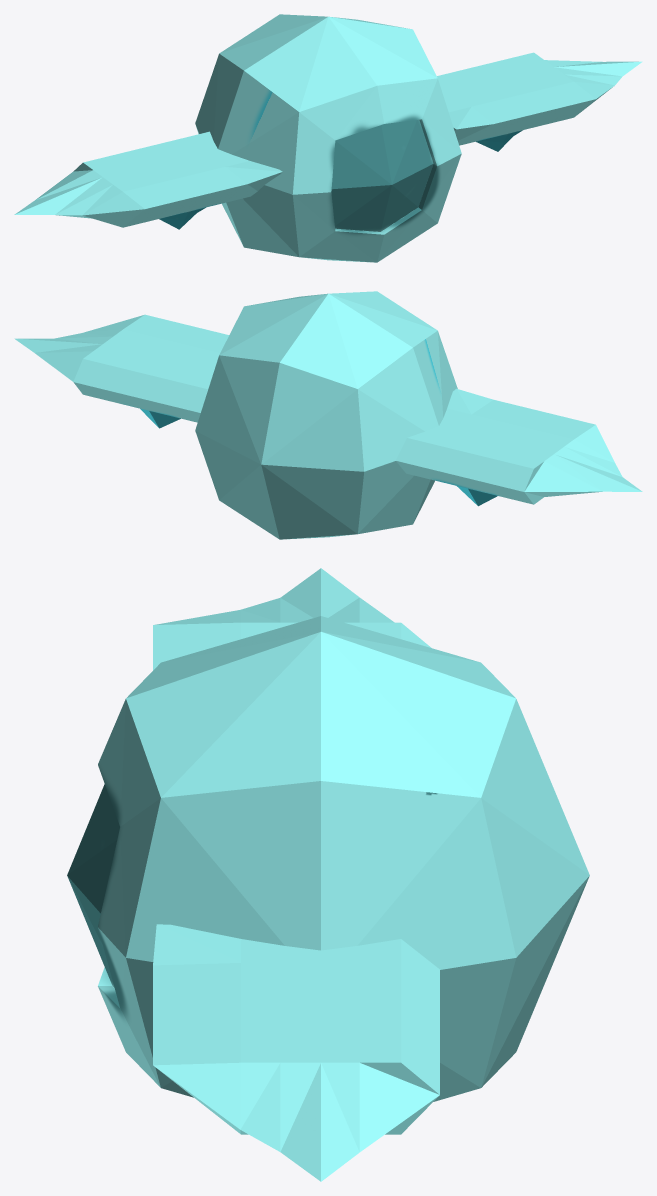
The model's file is player.obj.
3 renders of one model, top to bottom at view 1: azimuth 30°, elevation 25°; view 2: azimuth 150°, elevation 25°; view 3: azimuth 270°, elevation 25°, orthographic. The views are drawn at different scales.
Parts seen in each view (by area): view 1: 立方体.002; view 2: 立方体.002; view 3: 立方体.002.
Part boxes in pixels (x1=…): 立方体.002: x1=14, y1=14, x2=642, y2=262; 立方体.002: x1=14, y1=291, x2=642, y2=539; 立方体.002: x1=67, y1=568, x2=589, y2=1181.
Size of the model in its own units: 4.54 by 1.68 by 1.63.
1 material, 1 textured.
